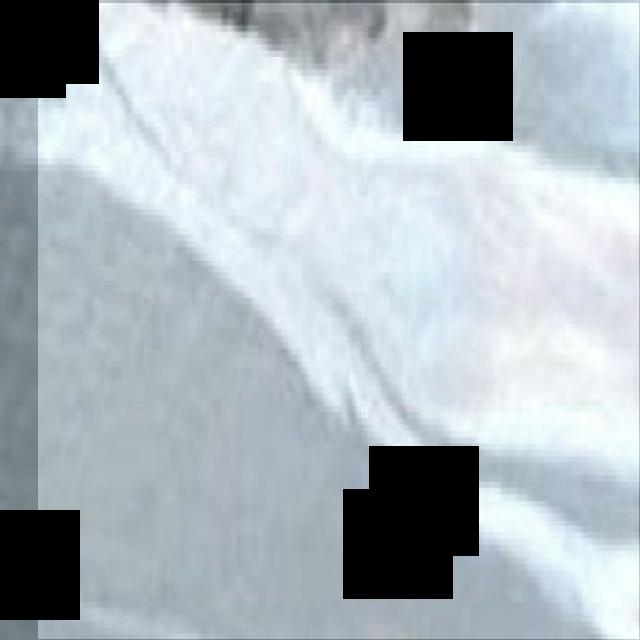oil spill: (39, 3, 640, 640)
